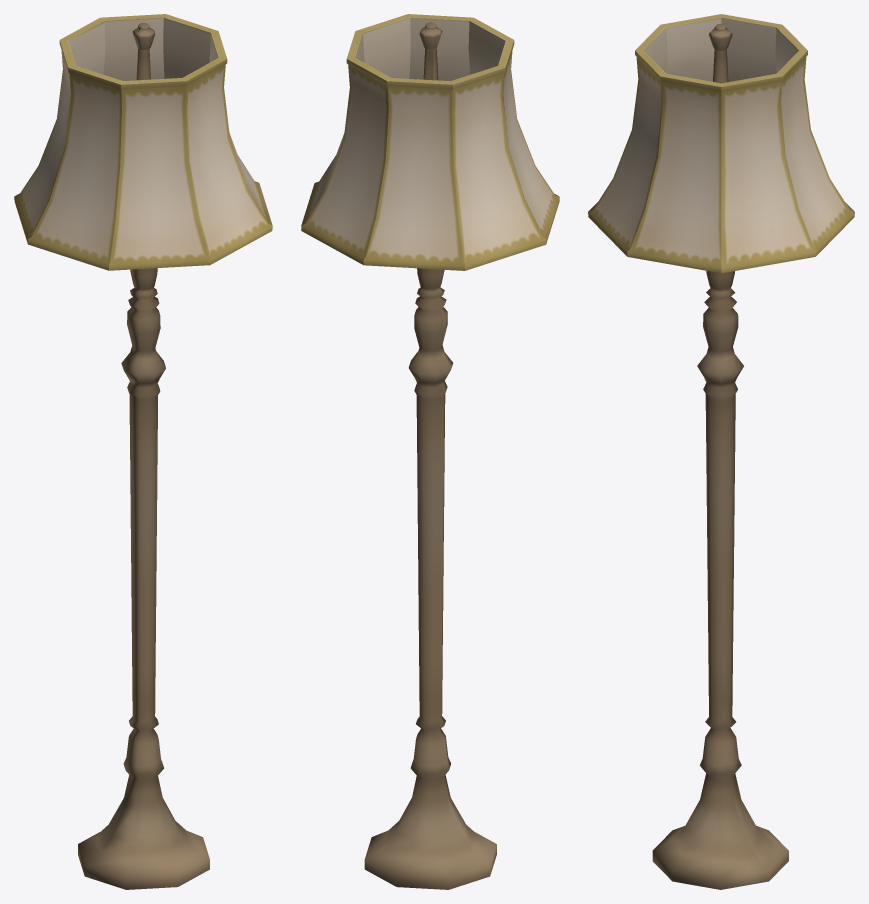
Rendered from FoyerLamp.fbx.
3 views of the same model, side by side, from view 1: azimuth 30°, elevation 25°; view 2: azimuth 150°, elevation 25°; view 3: azimuth 270°, elevation 25° (orthographic).
Parts seen in each view (by area): view 1: polySurface58; view 2: polySurface58; view 3: polySurface58.
Boxes of the visible parts, x1,y1,x2,y2 form: polySurface58: (14, 14, 272, 889); polySurface58: (301, 14, 559, 889); polySurface58: (588, 14, 854, 889).
Bounding box in the file's own units: 19.59 × 67.76 × 19.59.
